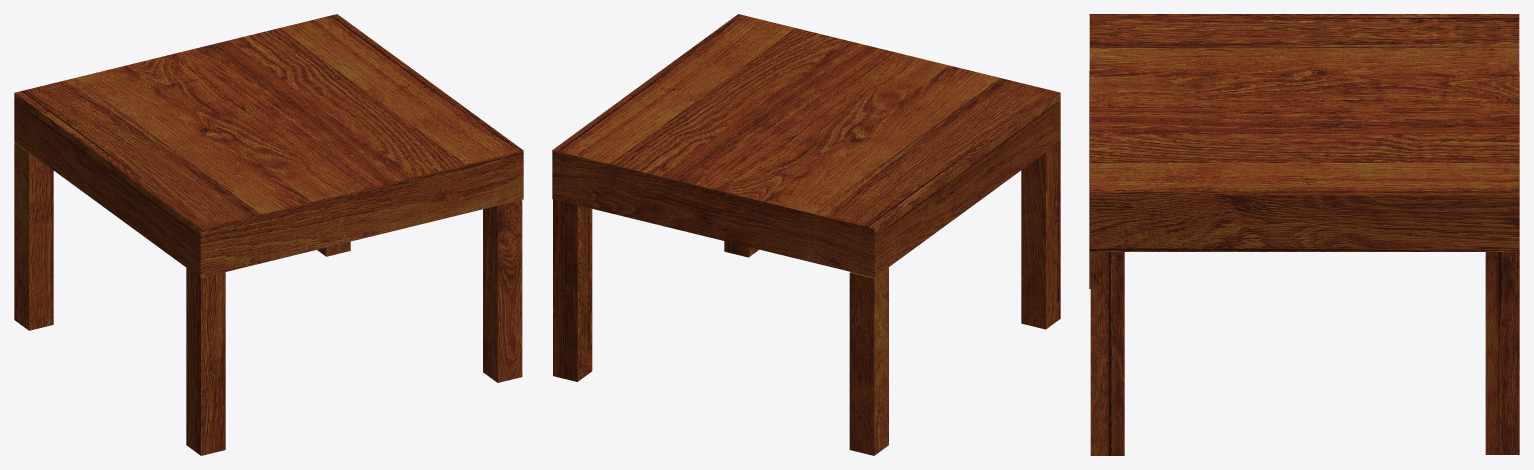
File: table.obj
3 views of the same model, side by side, from view 1: azimuth 30°, elevation 25°; view 2: azimuth 150°, elevation 25°; view 3: azimuth 270°, elevation 25° (orthographic). The views are drawn at different scales.
Parts seen in each view (by area): view 1: Cube; view 2: Cube; view 3: Cube.
Part boxes in pixels (box(x1,y1,x2,y2)): Cube: box(14, 14, 523, 455); Cube: box(552, 14, 1060, 455); Cube: box(1089, 14, 1519, 455).
Size of the model in its own units: 3.8 by 2.56 by 3.81.
1 material, 1 textured.
